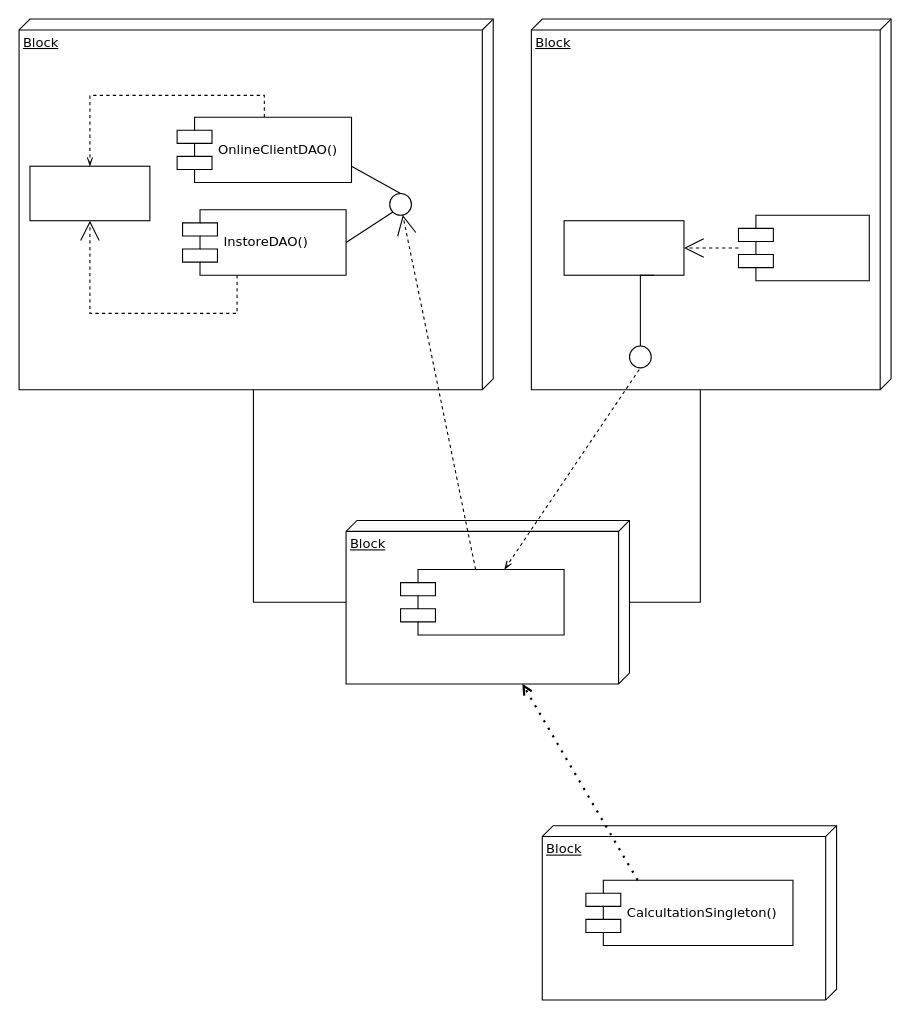
Image size: 910x1019. Some labels were removed from this diagram. Here are the shapes that lost their labels. From the top down, the centre of each, then its label:
the point at 89,193: «interface» ClientDAO()
the point at 623,247: «interface» Pizza
the point at 803,247: Pizza Factory
the point at 481,601: PizzaOrderFacade
